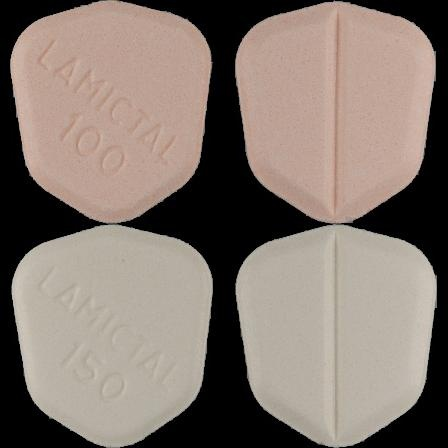21695-223: (0, 0, 224, 224)
